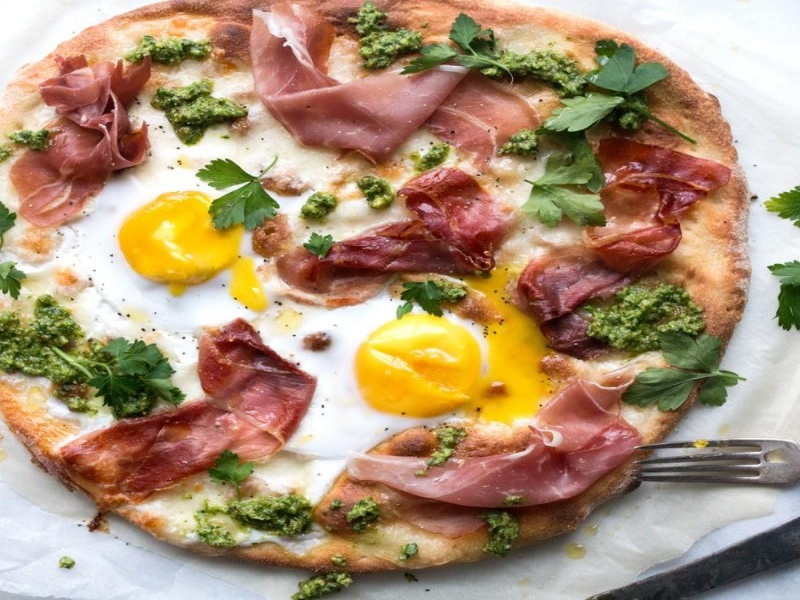oeuf: (342, 303, 495, 429), (115, 188, 257, 296)
